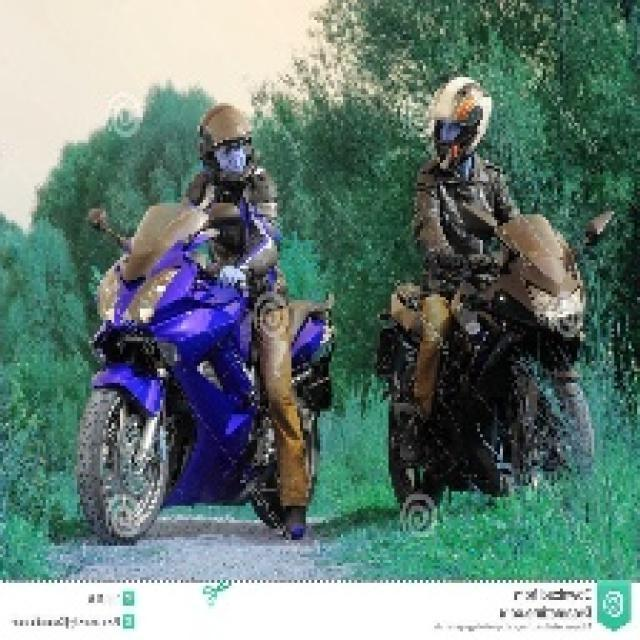Motorcycle: (72, 228, 278, 559), (382, 208, 590, 502)
